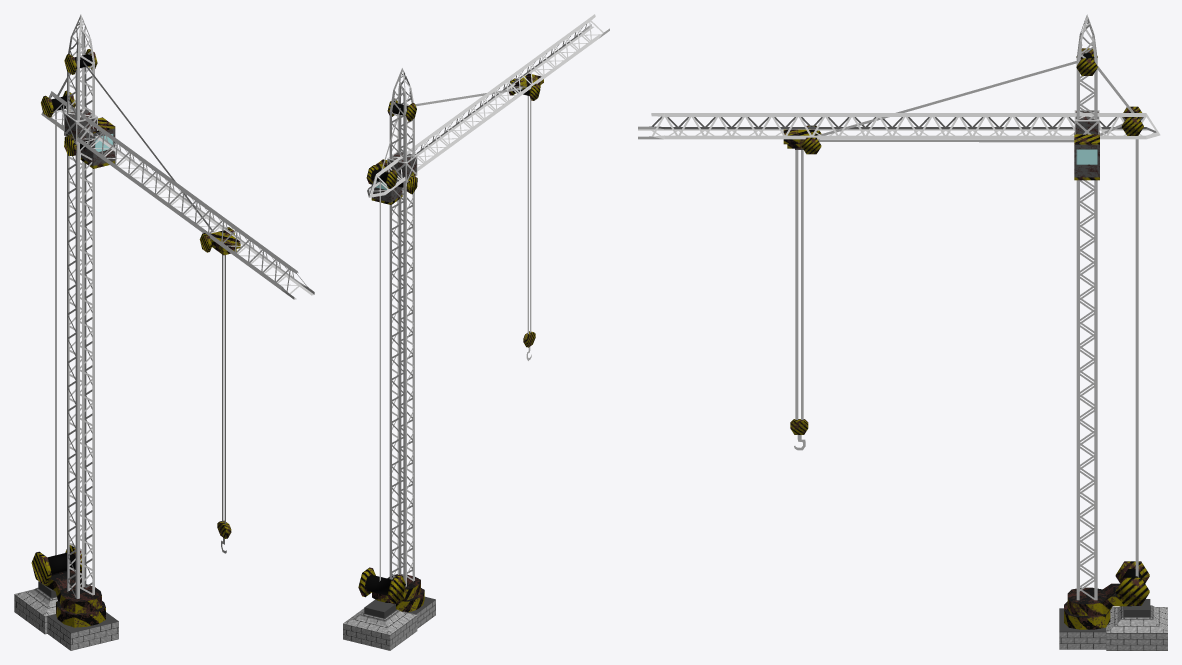
The model's file is Кран.fbx.
The picture shows the model from 3 angles, left to right: view 1: azimuth 30°, elevation 25°; view 2: azimuth 150°, elevation 25°; view 3: azimuth 270°, elevation 25°; orthographic projection. The views are drawn at different scales.
Parts seen in each view (by area): view 1: Crane, Crane.002, Footing, Crane.001, Cables, Cart; view 2: Crane, Crane.002, Footing, Crane.001, Cables, Cart; view 3: Crane, Crane.002, Footing, Cables, Crane.001, TrolleyCablesDown, TrolleyCablesUp.
Boxes of the visible parts, left/top/right/bottom form: Crane: left=41, top=14, right=314, bottom=357; Crane.002: left=31, top=383, right=101, bottom=613; Footing: left=14, top=581, right=118, bottom=650; Crane.001: left=55, top=332, right=94, bottom=405; Cables: left=222, top=254, right=225, bottom=523; Cart: left=199, top=227, right=240, bottom=255; Crane: left=366, top=14, right=609, bottom=382; Crane.002: left=358, top=405, right=420, bottom=604; Footing: left=343, top=588, right=435, bottom=650; Crane.001: left=379, top=362, right=414, bottom=428; Cables: left=527, top=96, right=531, bottom=334; Cart: left=509, top=73, right=543, bottom=100; Crane: left=638, top=14, right=1160, bottom=357; Crane.002: left=1067, top=398, right=1149, bottom=615; Footing: left=1059, top=599, right=1167, bottom=650; Cables: left=795, top=150, right=803, bottom=419; Crane.001: left=1076, top=349, right=1138, bottom=406; TrolleyCablesDown: left=818, top=139, right=1074, bottom=142; TrolleyCablesUp: left=817, top=61, right=1077, bottom=135.
Bounding box in the file's own units: 2.29 × 24.89 × 19.15.
3 materials, 2 textured.
